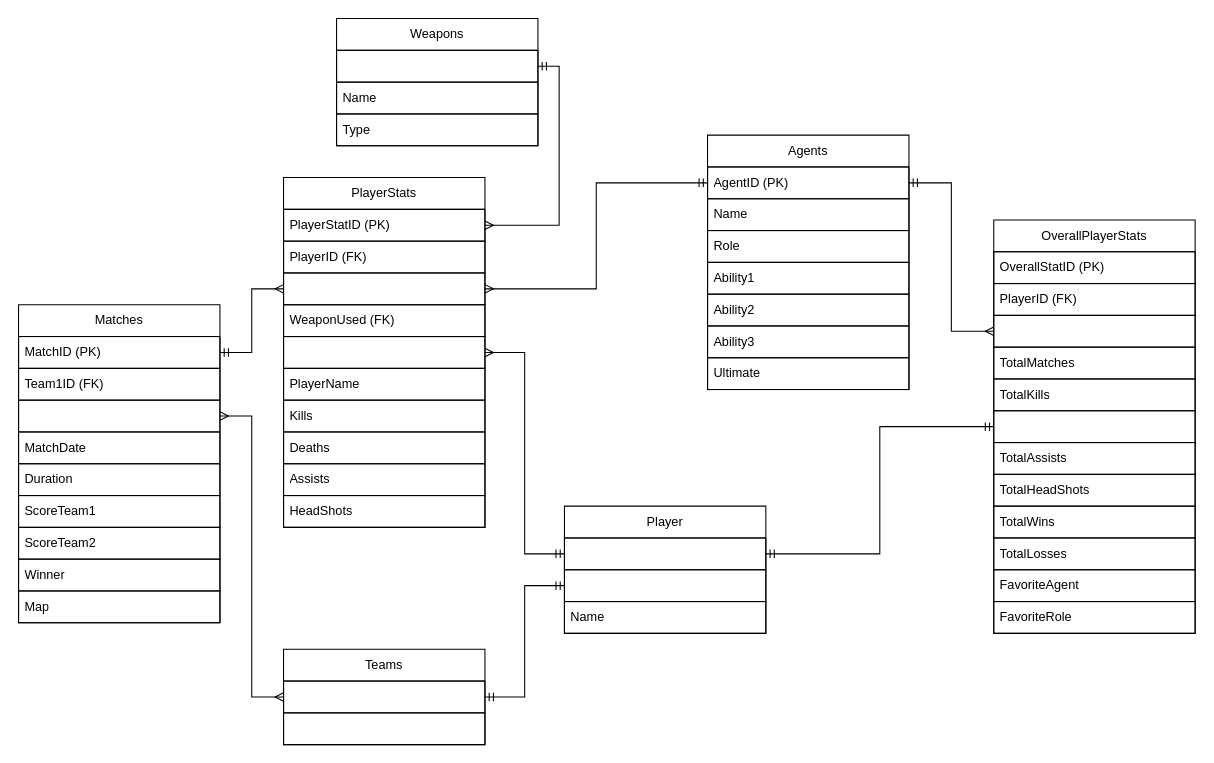
Image size: 1214x763. Some labels were removed from this diagram. Here are the shapes that lost their labels. From the top down, the centre of each, then its label:
At point (436, 65): "WeaponID (PK)".
At point (383, 288): "MatchID (FK)".
At point (1094, 330): "FavoriteAgent (FK)".
At point (383, 351): "AgentUsed (FK)".
At point (118, 415): "Team2ID (FK)".
At point (1094, 426): "TotalDeaths".
At point (664, 553): "PlayerID (PK)".
At point (664, 585): "TeamID (FK)".
At point (383, 696): "TeamID (PK)".
At point (383, 728): "TeamName".
